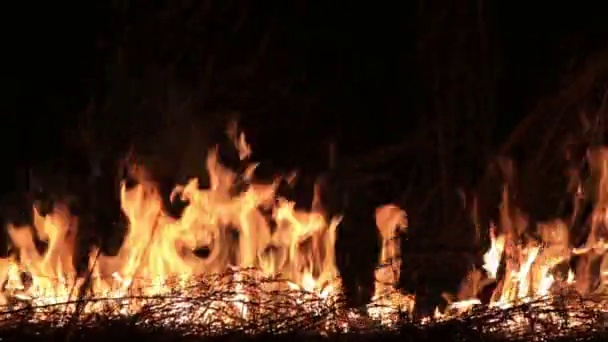fire: (85, 165, 341, 315), (438, 219, 608, 318), (1, 203, 75, 320), (369, 207, 412, 324)
